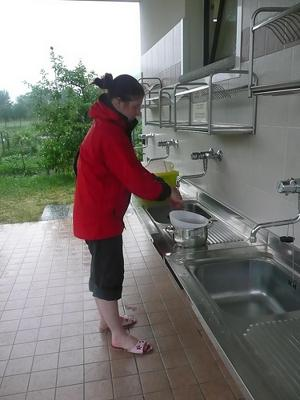person: (71, 71, 186, 359)
